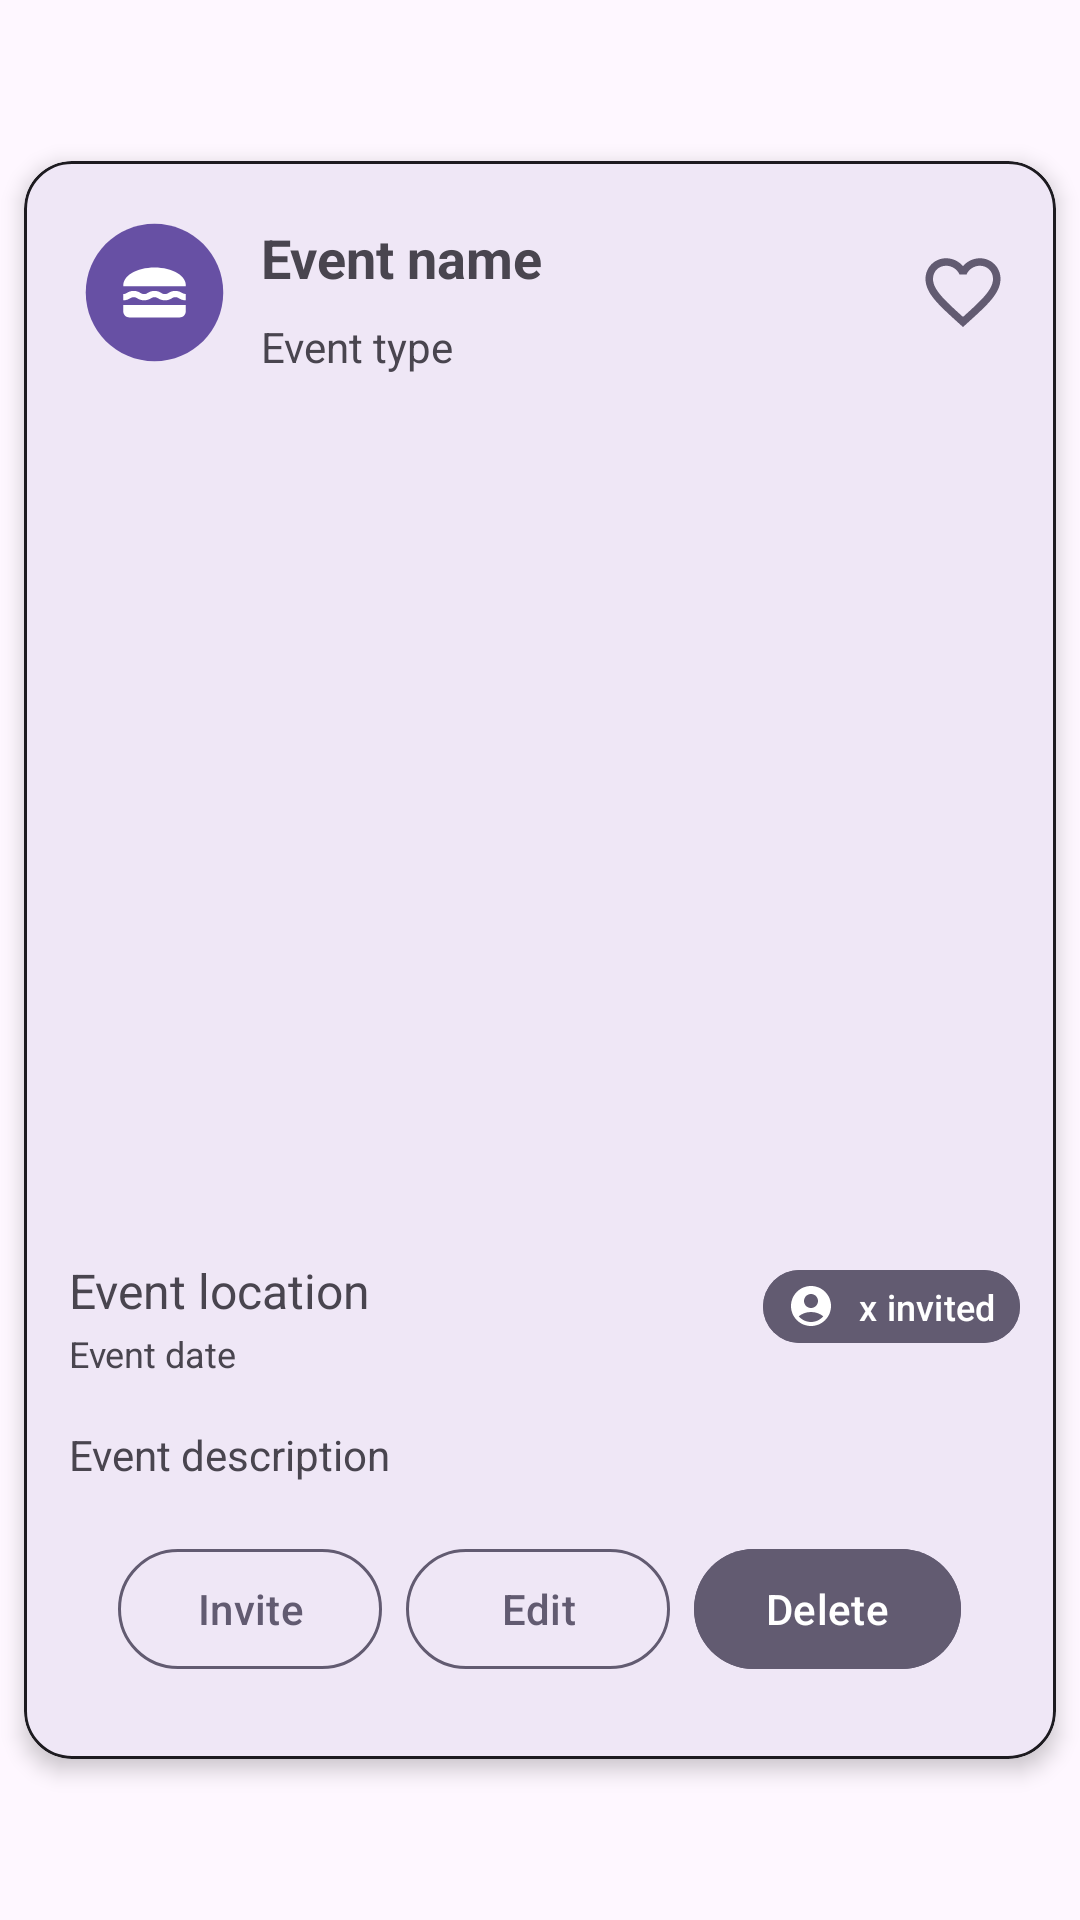

Icons on this 1080 × 1920 Android screen, each with its box as (x1,y1,x2,y2):
favorite border: (925,258,1001,327)
lunch dining: (123,267,186,318)
